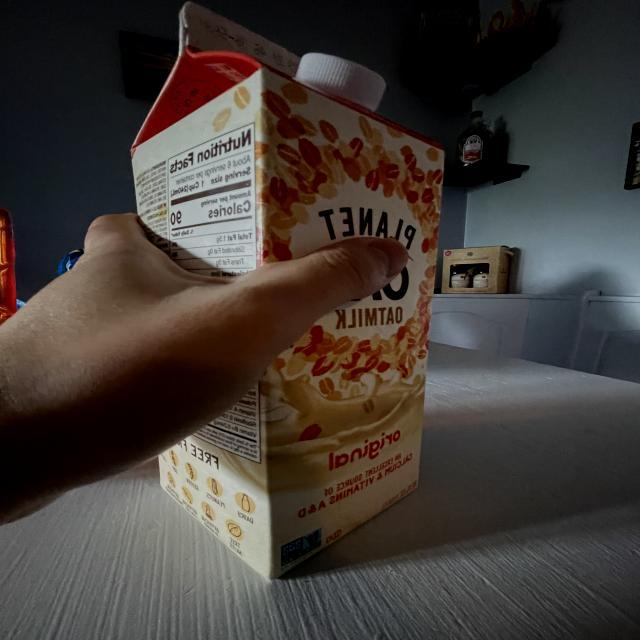Planet Oat Original: (132, 0, 452, 589)
